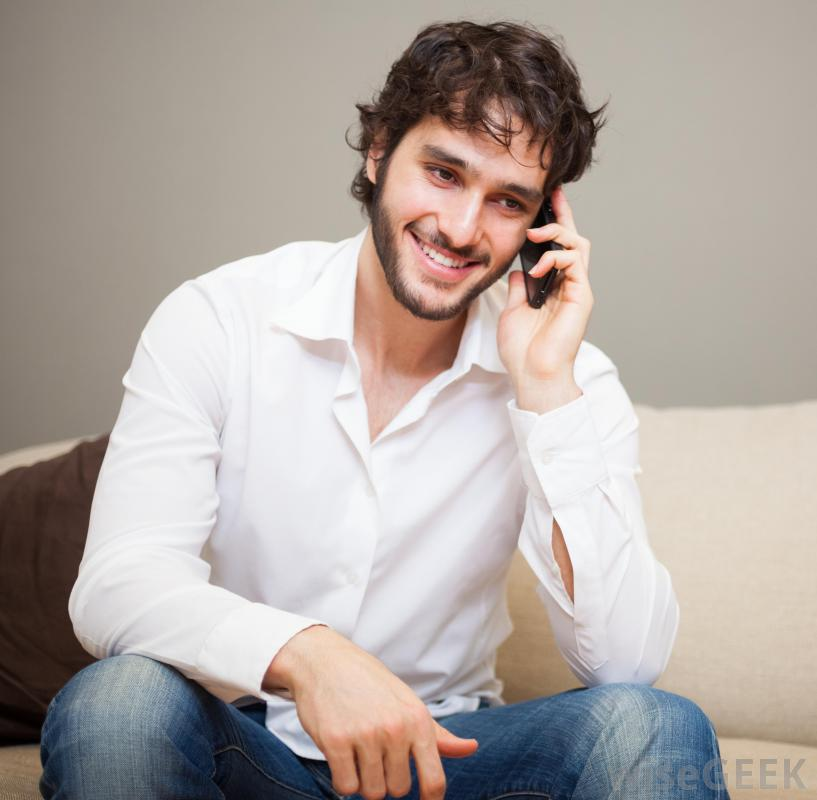phone: (502, 204, 574, 286)
talk: (377, 141, 599, 396)
